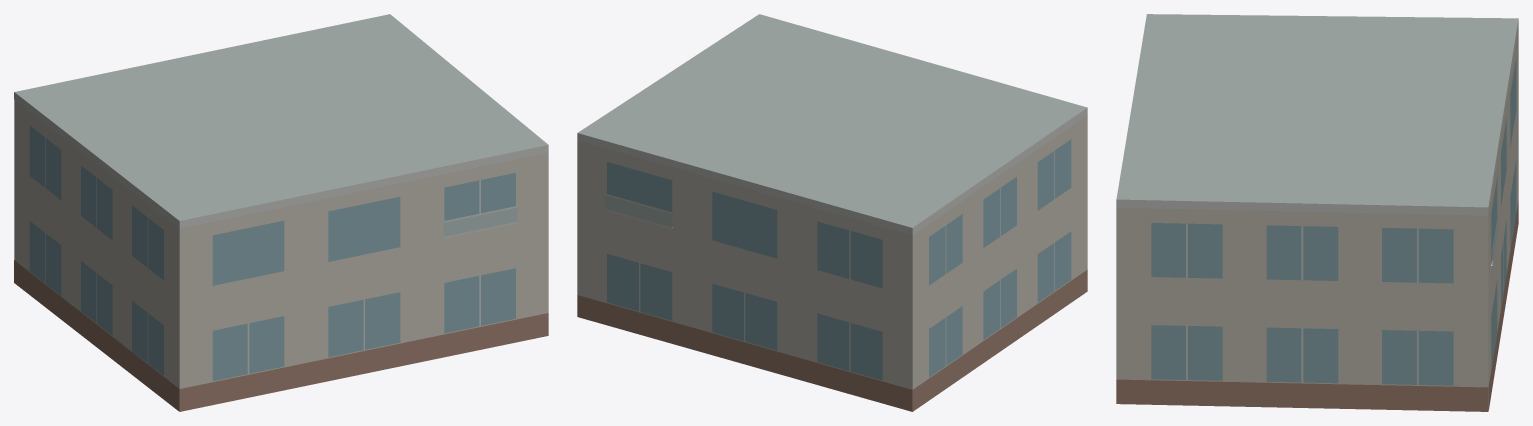
Rendered from survey-upis-32959012.glb.
3 views of the same model, side by side, from view 1: azimuth 30°, elevation 25°; view 2: azimuth 150°, elevation 25°; view 3: azimuth 270°, elevation 25° (orthographic). The views are drawn at different scales.
Visible parts, largest first — view 1: survey-upis-32959012.tmp; view 2: survey-upis-32959012.tmp; view 3: survey-upis-32959012.tmp.
Boxes of the visible parts, x1,y1,x2,y2 form: survey-upis-32959012.tmp: (14, 14, 548, 411); survey-upis-32959012.tmp: (577, 14, 1087, 411); survey-upis-32959012.tmp: (1116, 14, 1518, 411).
Bounding box in the file's own units: 12.39 × 6.1 × 10.89.
